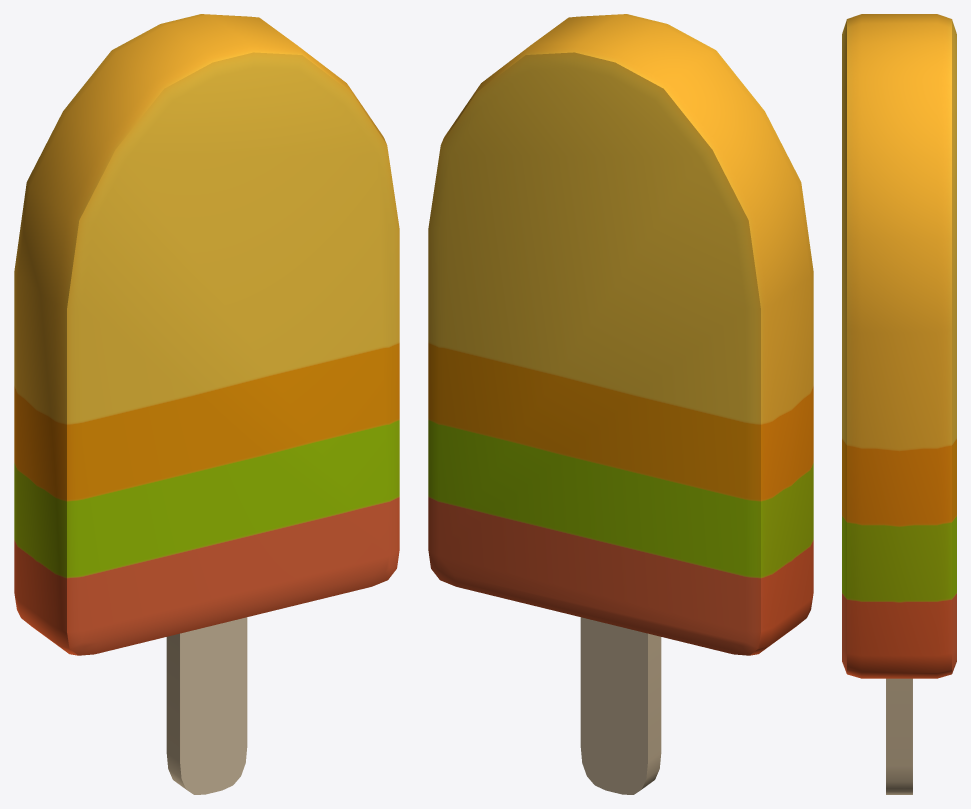
Rendered from ENV1810015.fbx.
The picture shows the model from 3 angles, left to right: view 1: azimuth 30°, elevation 25°; view 2: azimuth 150°, elevation 25°; view 3: azimuth 270°, elevation 25°; orthographic projection.
Parts seen in each view (by area): view 1: smENV1810015; view 2: smENV1810015; view 3: smENV1810015.
Boxes of the visible parts, bbox=[...] form: smENV1810015: bbox=[14, 14, 399, 794]; smENV1810015: bbox=[428, 14, 813, 794]; smENV1810015: bbox=[842, 14, 956, 794].
Size of the model in its own units: 6.41 by 13.54 by 1.87.
Materials: 1 (1 with a texture image).
